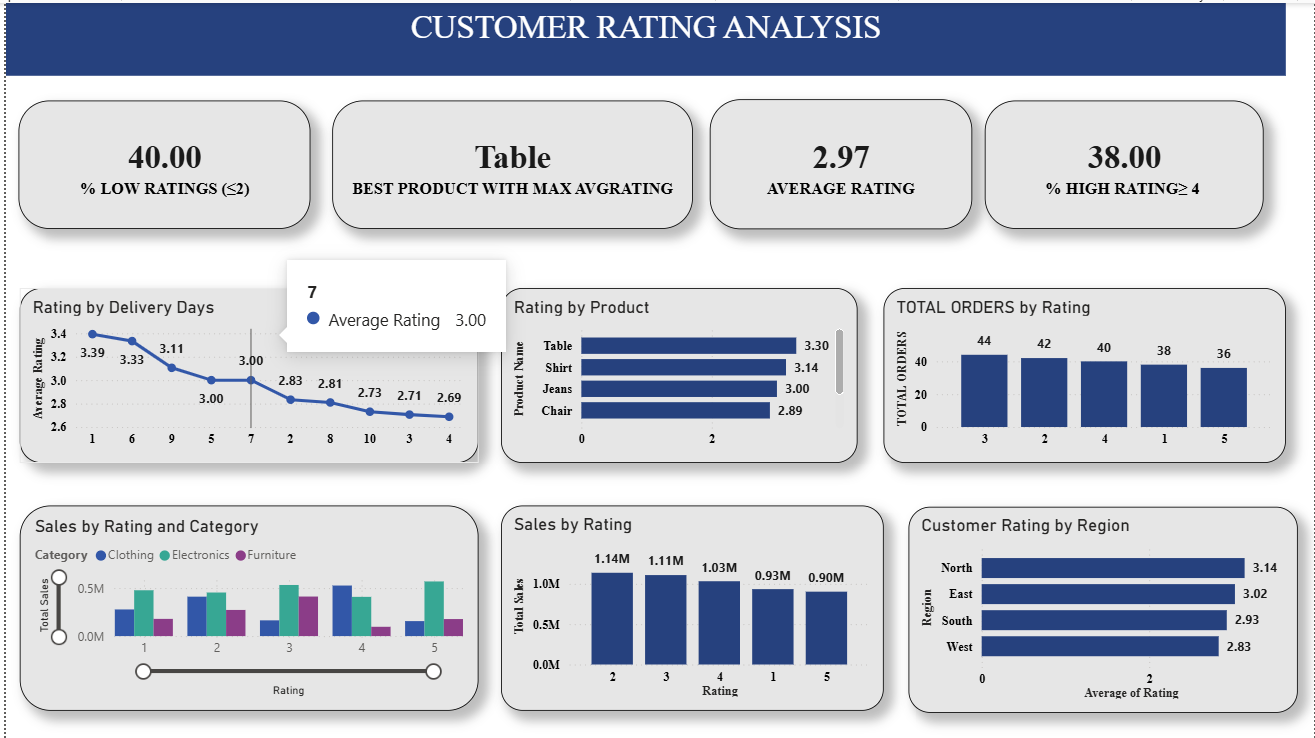

Layout of this report page (visuals, bound fields, positions):
{"tool":"powerbi","page":{"name":"RATING ANALYSIS","canvas":[1280,720],"ordinal":3},"visuals":[{"type":"textbox","box":[0,0,1252.2,70.9],"z":0},{"type":"card","fields":{"Values":["Customer_Behavior.AVERAGE RATING"]},"box":[688.5,93.6,256.4,126.9],"z":1000},{"type":"card","fields":{"Values":["Customer_Behavior.HIGH RATING"]},"box":[957.7,94.9,273.1,125.6],"z":2000},{"type":"card","fields":{"Values":["Customer_Behavior.LOW RATING"]},"box":[12.8,94.9,285.9,125.6],"z":3000},{"type":"card","fields":{"Values":["Customer_Behavior.BEST PRODUCT WITH MAX AVGRATING"]},"box":[319.2,94.9,352.6,125.6],"z":4000},{"type":"clusteredColumnChart","title":"Sales by Rating and Category","fields":{"Category":["Customer_Behavior.Rating"],"Y":["Sum(Customer_Behavior.Sales)"],"Series":["Customer_Behavior.Category"]},"box":[13.5,491.6,448.8,200.5],"z":5000},{"type":"barChart","title":"Rating by Product","fields":{"Category":["Customer_Behavior.Product_Name"],"Y":["Avg(Customer_Behavior.Rating)"]},"box":[484.2,278.8,348.5,171.2],"z":6000},{"type":"columnChart","fields":{"Y":["Customer_Behavior.TOTAL ORDERS"],"Category":["Customer_Behavior.Rating"]},"box":[858.4,278.8,393.8,171.2],"z":7000},{"type":"clusteredColumnChart","title":" Sales by Rating","fields":{"Y":["Sum(Customer_Behavior.Sales)"],"Category":["Customer_Behavior.Rating"]},"box":[484.2,491.6,374.2,200.5],"z":8000},{"type":"lineChart","title":"Rating by Delivery Days","fields":{"Y":["Avg(Customer_Behavior.Rating)"],"Category":["Customer_Behavior.Delivery_Days"]},"box":[13.5,278.8,448.8,171.2],"z":9000},{"type":"barChart","title":"Customer Rating by Region","fields":{"Y":["Avg(Customer_Behavior.Rating)"],"Category":["Customer_Behavior.Region"]},"box":[883.3,492.3,380.8,201.3],"z":10000}]}

Visuals, with their boxes in screenshot pixels (x1, y1, x2, y2), scaled from the page's 1280x720 canvas onto the 1315x738 screenshot:
textbox: 0 0 1286 73
card - Customer_Behavior.AVERAGE RATING: 707 96 971 226
card - Customer_Behavior.HIGH RATING: 984 97 1264 226
card - Customer_Behavior.LOW RATING: 13 97 307 226
card - Customer_Behavior.BEST PRODUCT WITH MAX AVGRATING: 328 97 690 226
"Sales by Rating and Category" clusteredColumnChart: 14 504 475 709
"Rating by Product" barChart: 497 286 855 461
columnChart - Customer_Behavior.TOTAL ORDERS x Customer_Behavior.Rating: 882 286 1286 461
" Sales by Rating" clusteredColumnChart: 497 504 882 709
"Rating by Delivery Days" lineChart: 14 286 475 461
"Customer Rating by Region" barChart: 907 505 1299 711
